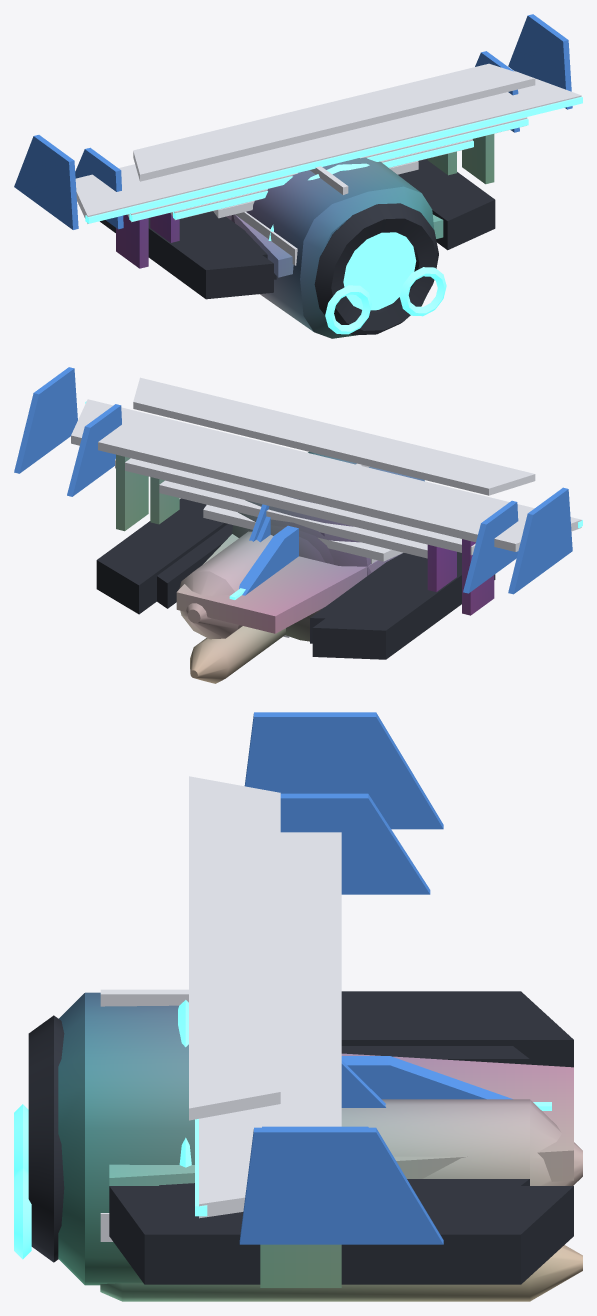
File: parts.glb
3 views of the same model, one above another, from view 1: azimuth 30°, elevation 25°; view 2: azimuth 150°, elevation 25°; view 3: azimuth 270°, elevation 25° (orthographic). The views are drawn at different scales.
Visible parts, largest first — view 1: stabilizer_t3_mesh, engine_t3_mesh, hull_t3_mesh, stabilizer_t2_mesh, stabilizer_t1_mesh, stabilizer_t0_mesh, hull_t2_mesh; view 2: stabilizer_t3_mesh, hull_t3_mesh, stabilizer_t2_mesh, booster_t3_mesh, stabilizer_t1_mesh, hull_t2_mesh, engine_t3_mesh, stabilizer_t0_mesh, engine_t2_mesh; view 3: stabilizer_t3_mesh, hull_t3_mesh, engine_t3_mesh, booster_t3_mesh, stabilizer_t2_mesh, hull_t2_mesh.
Boxes of the visible parts, x1,y1,x2,y2 form: stabilizer_t3_mesh: [14, 14, 582, 268]; engine_t3_mesh: [231, 157, 446, 338]; hull_t3_mesh: [100, 158, 495, 299]; stabilizer_t2_mesh: [75, 51, 528, 242]; stabilizer_t1_mesh: [170, 139, 473, 220]; stabilizer_t0_mesh: [213, 161, 418, 218]; hull_t2_mesh: [205, 211, 276, 279]; stabilizer_t3_mesh: [14, 367, 582, 615]; hull_t3_mesh: [96, 498, 495, 659]; stabilizer_t2_mesh: [67, 404, 518, 593]; booster_t3_mesh: [179, 504, 285, 683]; stabilizer_t1_mesh: [159, 480, 427, 558]; hull_t2_mesh: [157, 524, 411, 643]; engine_t3_mesh: [232, 452, 424, 641]; stabilizer_t0_mesh: [203, 505, 402, 561]; engine_t2_mesh: [270, 525, 333, 618]; stabilizer_t3_mesh: [189, 712, 443, 1287]; hull_t3_mesh: [109, 991, 573, 1284]; engine_t3_mesh: [14, 989, 259, 1285]; booster_t3_mesh: [100, 1060, 582, 1301]; stabilizer_t2_mesh: [262, 793, 430, 1127]; hull_t2_mesh: [159, 1046, 529, 1185].
Size of the model in its own units: 2.24 by 0.8715 by 1.29.
